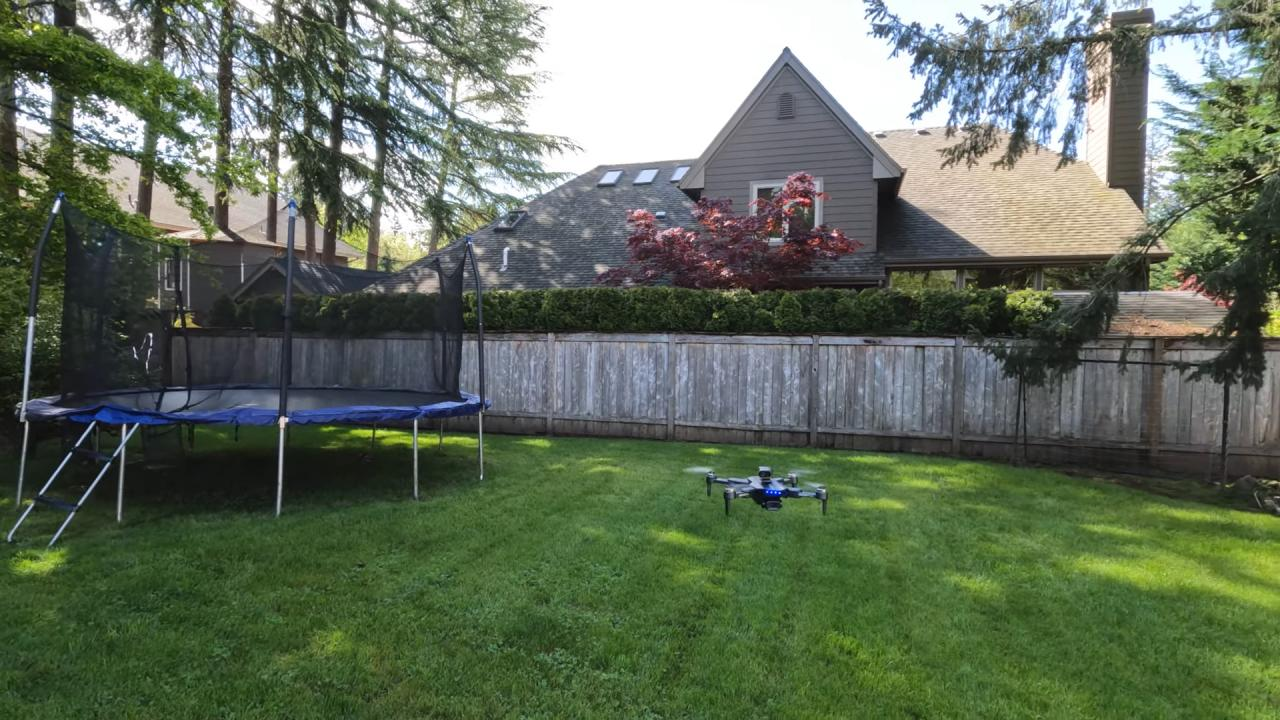Drone: (680, 455, 844, 528)
